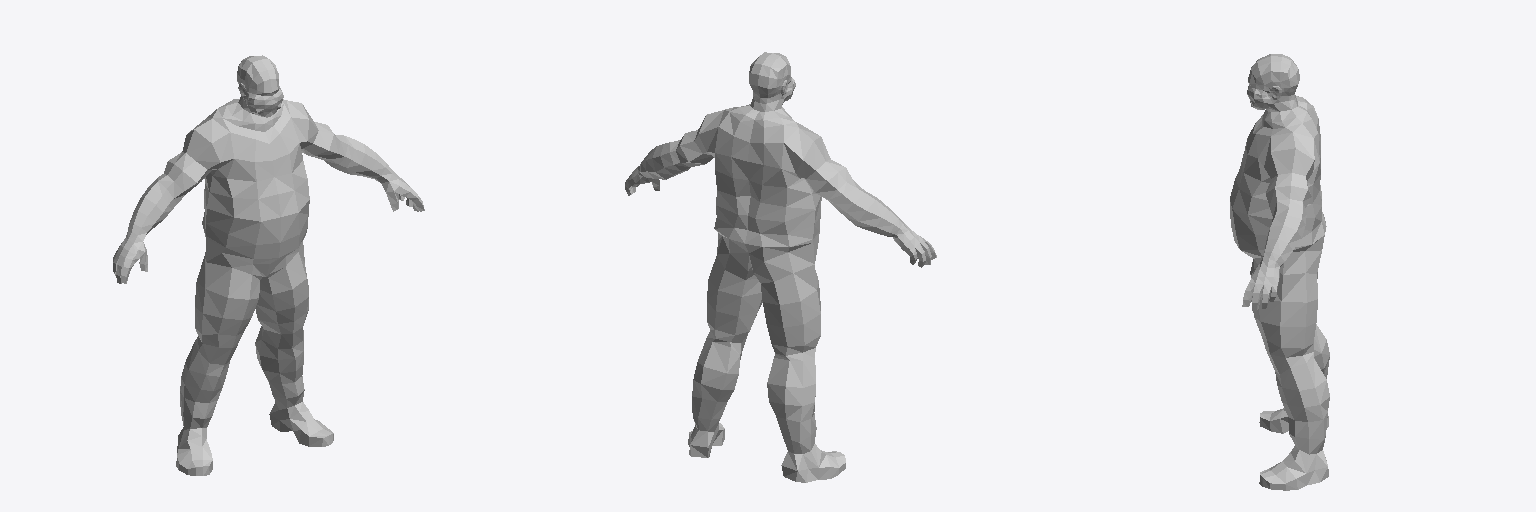
3 renders of one model, left to right at view 1: azimuth 30°, elevation 25°; view 2: azimuth 150°, elevation 25°; view 3: azimuth 270°, elevation 25°, orthographic.
Visible parts, largest first — view 1: lowman_shoes; view 2: lowman_shoes; view 3: lowman_shoes.
Part boxes in pixels (bbox=[...]): lowman_shoes: bbox=[113, 55, 424, 475]; lowman_shoes: bbox=[625, 52, 936, 482]; lowman_shoes: bbox=[1230, 54, 1329, 490].
Bounding box in the file's own units: 1.64 × 2.06 × 0.4685.